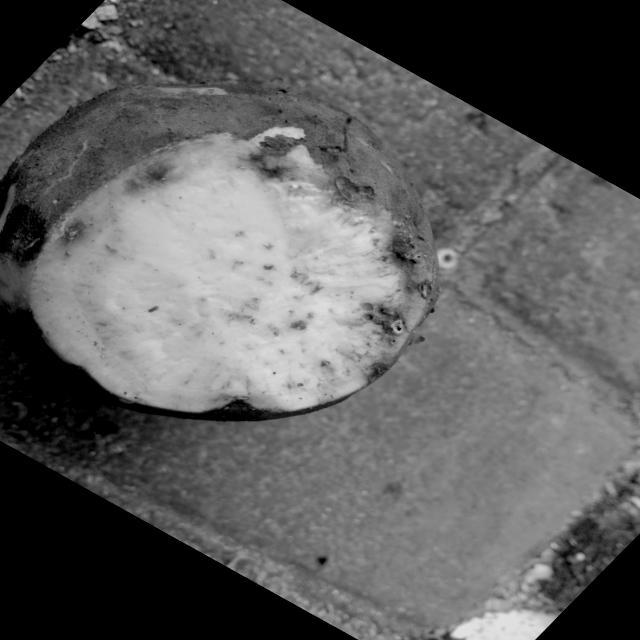Sick Sweet Potato_Tuber Rot: (2, 134, 432, 420)
